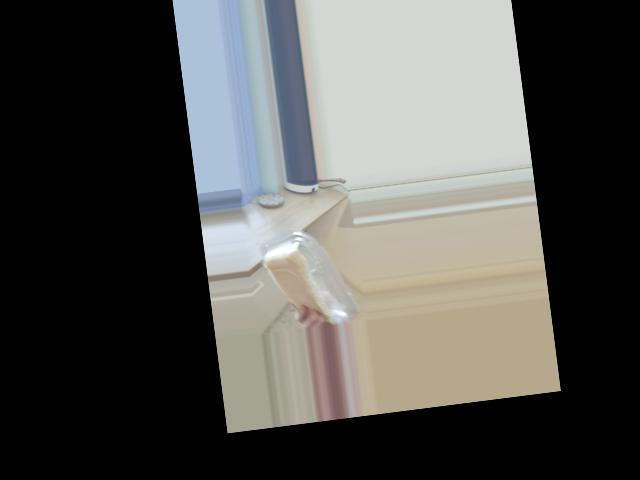cheese: (271, 234, 340, 296)
